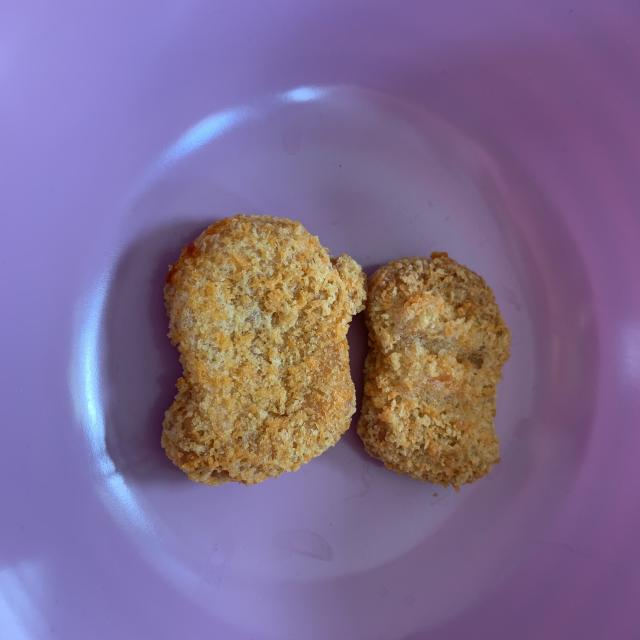Frango: (159, 218, 356, 488), (352, 252, 505, 486)
